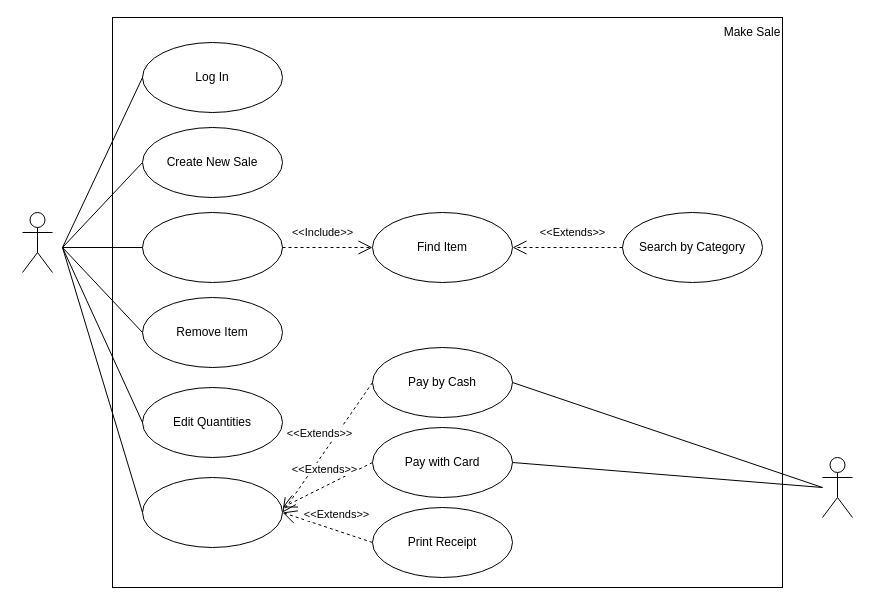
The diagram is 881 pixels wide and 605 high, and some of its shapes have lost their labels. The centre of each missing label's shape, as x and y in pixels:
Add Item: (212,247)
Cashier: (37,242)
Customer: (837,487)
Finalize Sale: (212,512)
